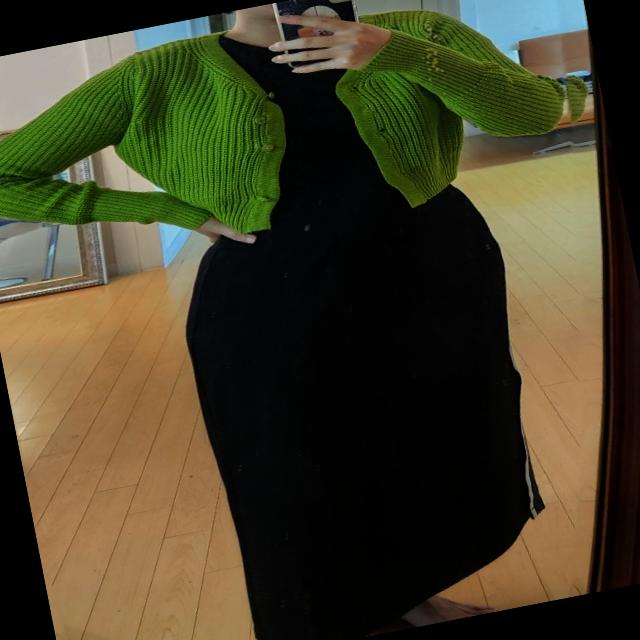cardigan: (0, 0, 585, 292)
skirt: (162, 164, 567, 640)
